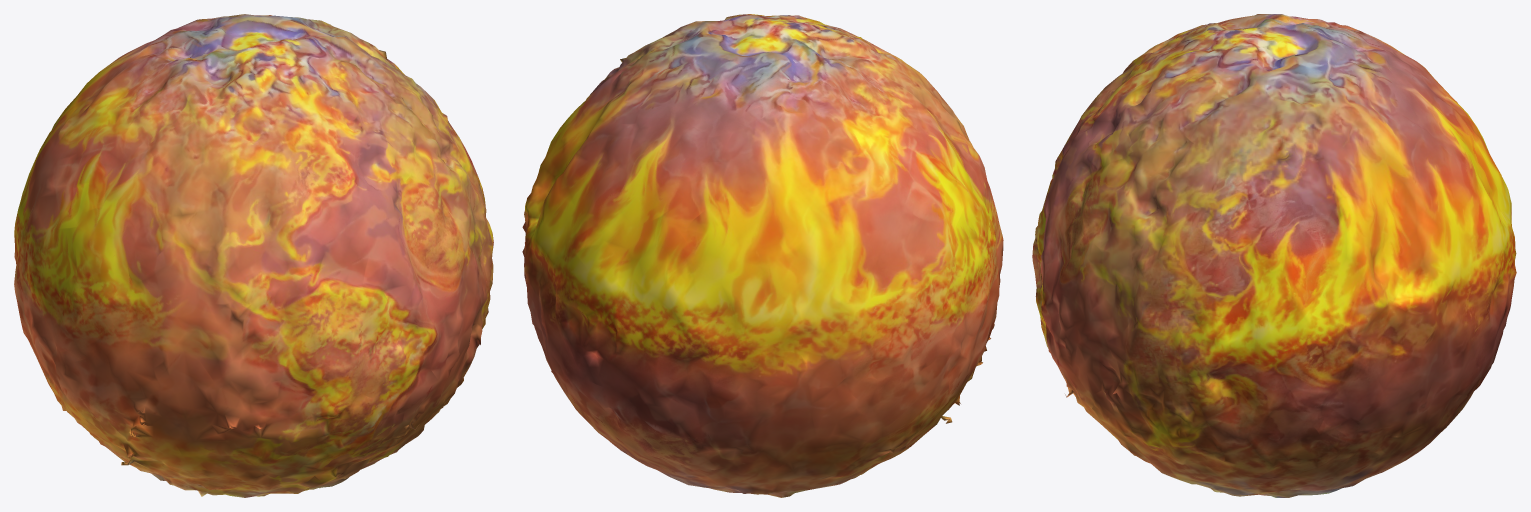
The model's file is 015a2750-1781-4516-be9d-f2cb790eceaa.glb.
The picture shows the model from 3 angles, left to right: view 1: azimuth 30°, elevation 25°; view 2: azimuth 150°, elevation 25°; view 3: azimuth 270°, elevation 25°; orthographic projection.
Size of the model in its own units: 1.19 by 1.2 by 1.2.
Materials: 1 (1 with a texture image).
